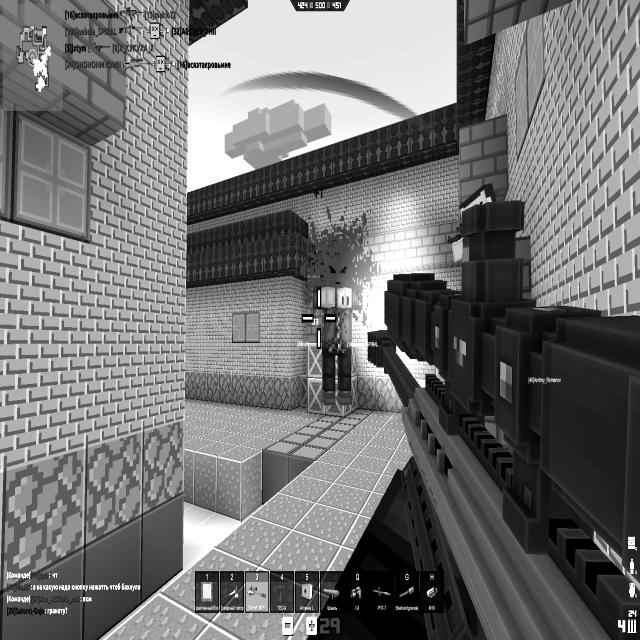Head: (459, 186, 499, 224), (323, 249, 353, 290)
Player: (314, 248, 359, 404)
